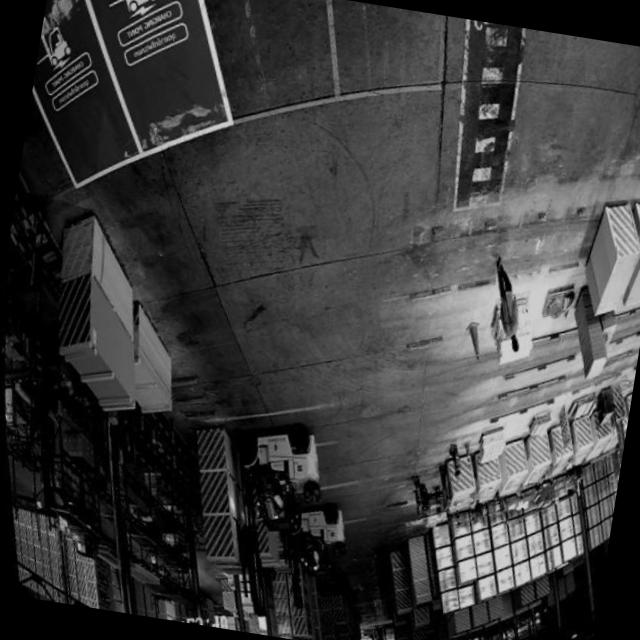driver: (256, 470, 294, 522), (300, 533, 326, 573)
forklift: (219, 405, 346, 554), (278, 491, 364, 592)
person: (479, 253, 538, 360), (431, 468, 457, 522), (468, 477, 486, 508)
